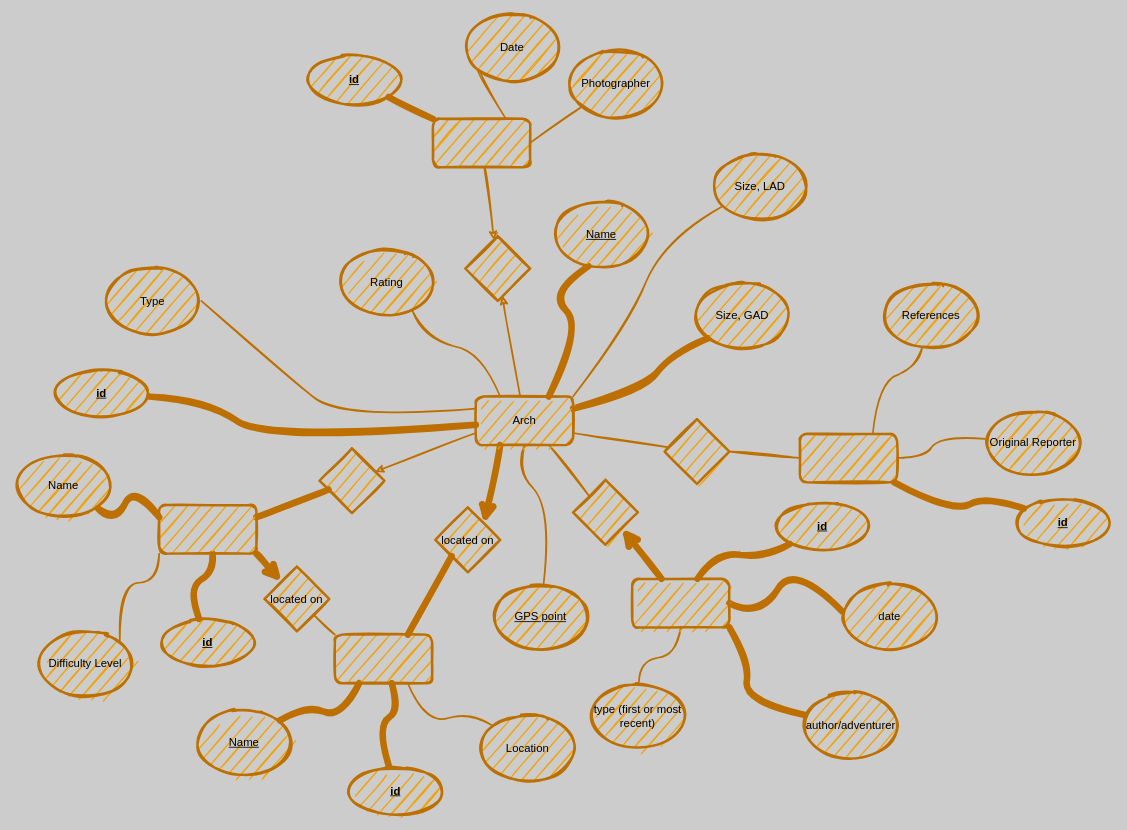
This 1127x830 diagram has some shape labels left out. The centre of each missing label's shape, as x and y in pixels:
"accessed via" goes at (x=351, y=480).
"Background Info" goes at (x=848, y=457).
"has" goes at (x=696, y=451).
"has a" goes at (x=497, y=268).
"Map" goes at (x=383, y=658).
"Picture" goes at (x=481, y=142).
"Report/Sighting" goes at (x=680, y=602).
"reported in" goes at (x=605, y=512).
"Trail" goes at (x=207, y=528).
